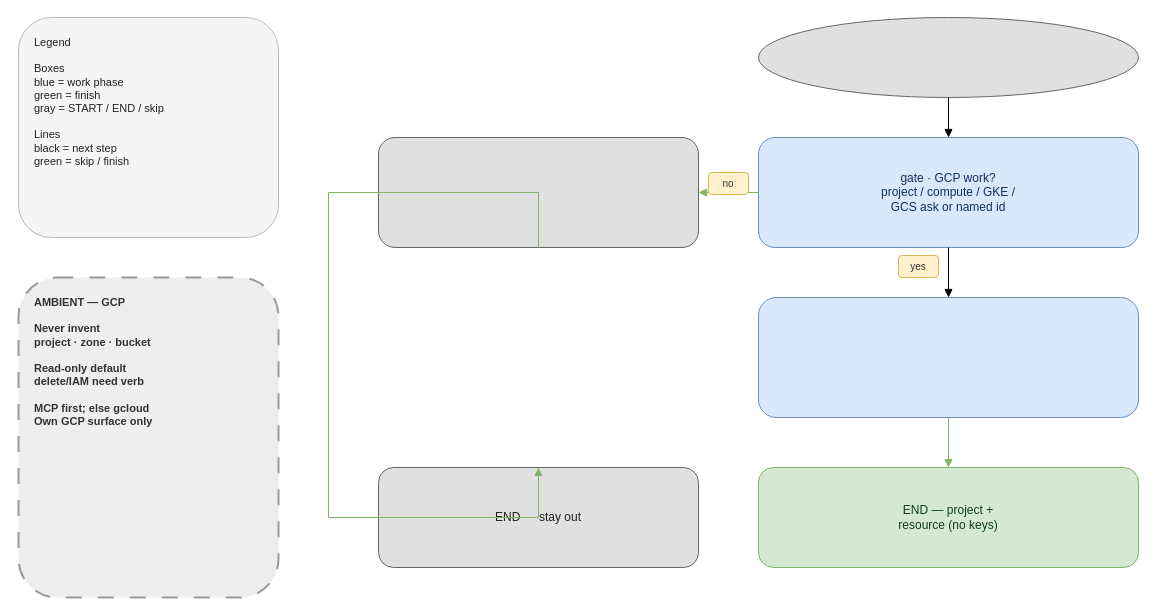
Some shapes in this 1156 by 616 pixel diagram are drawn without their labels. Each missing label, with the box of its shape:
inventory → act compute · storage; safety on delete/IAM: (758, 296, 1138, 418)
skip — no GCP ordinary coding; do not gcloud for sport: (378, 136, 698, 248)
START — user ask: (758, 16, 1138, 98)
